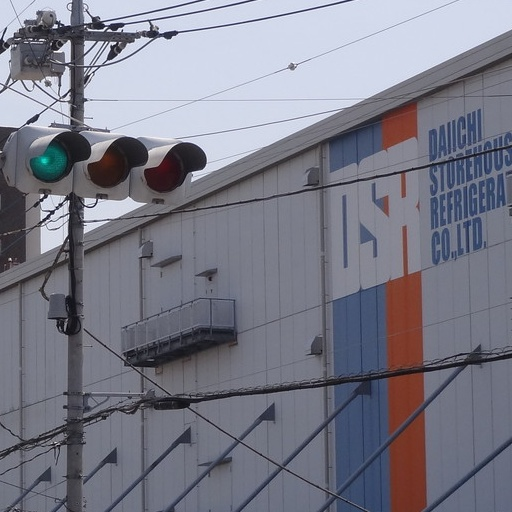Traffic_Signal_Blue: (27, 127, 197, 199)
